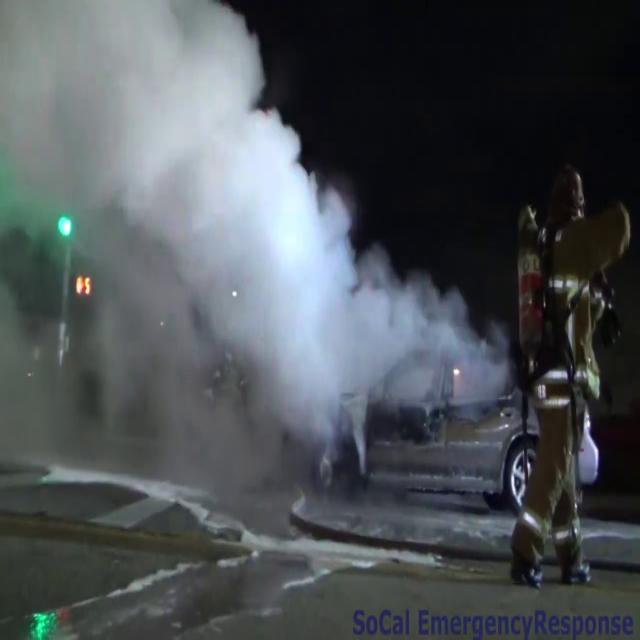Smoke: (6, 0, 490, 509)
